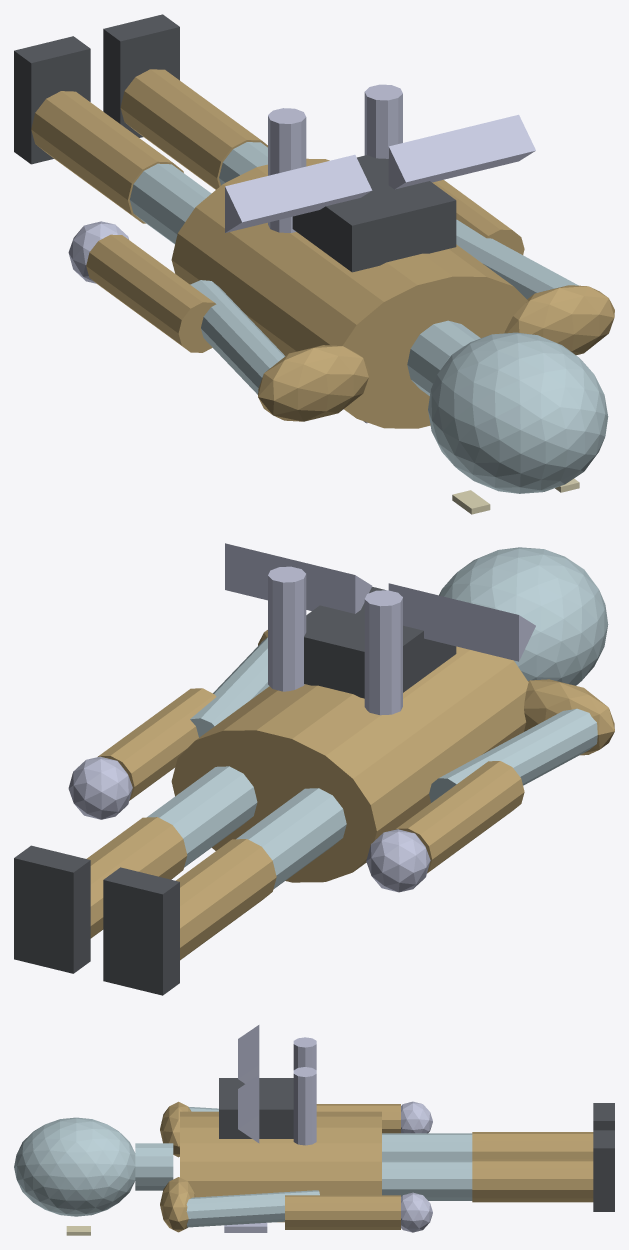
File: SWN-020_thessa_blue.glb
The picture shows the model from 3 angles, top to bottom: view 1: azimuth 30°, elevation 25°; view 2: azimuth 150°, elevation 25°; view 3: azimuth 270°, elevation 25°; orthographic projection. The views are drawn at different scales.
Visible parts, largest first — view 1: body_spine, head, back_thruster_pack, greave_-1, greave_1, forearm_gauntlet_-1, zero_g_winglet_-1, zero_g_winglet_1, shoulder_plate_-1, boot_-1, boot_1, shoulder_plate_1 (+9 smaller); view 2: body_spine, head, boot_-1, boot_1, greave_-1, back_thruster_pack, forearm_gauntlet_-1, zero_g_winglet_-1, thigh_-1, thigh_1, upper_arm_-1, forearm_gauntlet_1 (+8 smaller); view 3: body_spine, head, greave_1, forearm_gauntlet_1, thigh_1, greave_-1, back_thruster_pack, upper_arm_1, thigh_-1, aether_thruster_1, boot_1, neck (+10 smaller).
Boxes of the visible parts, bbox=[...] form: body_spine: bbox=[171, 158, 527, 428]; head: bbox=[428, 332, 608, 493]; back_thruster_pack: bbox=[292, 155, 456, 272]; greave_-1: bbox=[31, 91, 183, 223]; greave_1: bbox=[120, 69, 267, 189]; forearm_gauntlet_-1: bbox=[86, 234, 216, 352]; zero_g_winglet_-1: bbox=[225, 154, 372, 232]; zero_g_winglet_1: bbox=[388, 114, 535, 189]; shoulder_plate_-1: bbox=[258, 345, 369, 421]; boot_-1: bbox=[14, 36, 90, 164]; boot_1: bbox=[103, 14, 179, 137]; shoulder_plate_1: bbox=[504, 285, 614, 355]; body_spine: bbox=[171, 646, 528, 882]; head: bbox=[439, 547, 608, 685]; boot_-1: bbox=[103, 867, 179, 995]; boot_1: bbox=[14, 845, 90, 973]; greave_-1: bbox=[176, 839, 276, 960]; back_thruster_pack: bbox=[304, 586, 456, 698]; forearm_gauntlet_-1: bbox=[395, 761, 524, 873]; zero_g_winglet_-1: bbox=[388, 583, 535, 661]; thigh_-1: bbox=[236, 788, 346, 889]; thigh_1: bbox=[146, 766, 257, 867]; upper_arm_-1: bbox=[429, 708, 597, 802]; forearm_gauntlet_1: bbox=[98, 688, 216, 800]; body_spine: bbox=[180, 1111, 381, 1222]; head: bbox=[14, 1117, 135, 1216]; greave_1: bbox=[472, 1159, 593, 1202]; forearm_gauntlet_1: bbox=[285, 1195, 400, 1229]; thigh_1: bbox=[382, 1160, 472, 1200]; greave_-1: bbox=[472, 1132, 593, 1159]; back_thruster_pack: bbox=[219, 1078, 293, 1138]; upper_arm_1: bbox=[186, 1190, 319, 1227]; thigh_-1: bbox=[382, 1133, 472, 1160]; aether_thruster_1: bbox=[293, 1067, 316, 1145]; boot_1: bbox=[593, 1130, 614, 1211]; neck: bbox=[135, 1143, 173, 1190].
Size of the model in its own units: 0.9596 by 0.6775 by 2.23.
